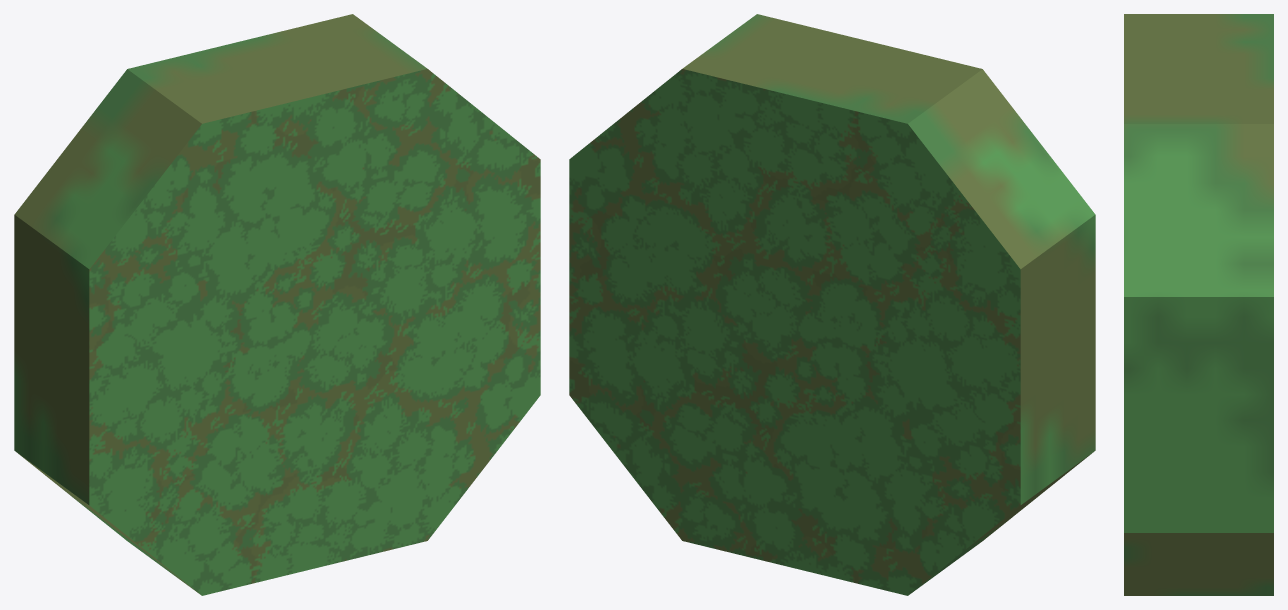
File: Coin.fbx
3 renders of one model, left to right at view 1: azimuth 30°, elevation 25°; view 2: azimuth 150°, elevation 25°; view 3: azimuth 270°, elevation 25°, orthographic.
Visible parts, largest first — view 1: Coin; view 2: Coin; view 3: Coin.
Part boxes in pixels (<box>): Coin: <box>14,14,540,595</box>; Coin: <box>569,14,1095,595</box>; Coin: <box>1124,14,1273,595</box>.
Size of the model in its own units: 50.04 by 50.04 by 14.39.
